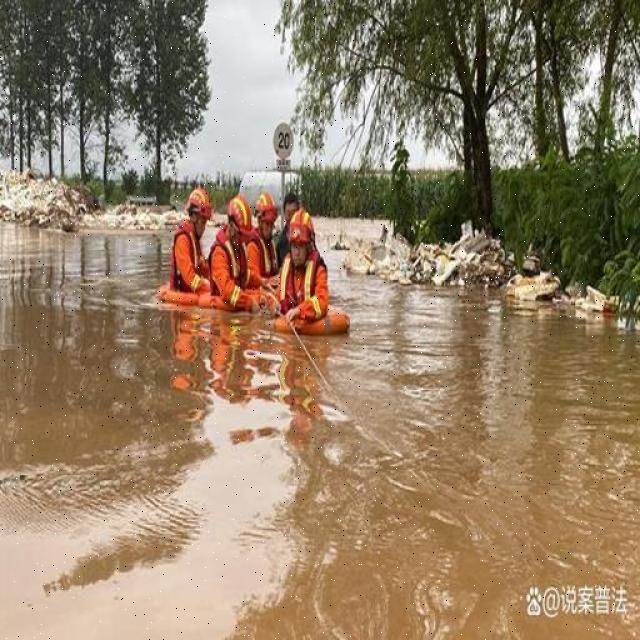rescuer: (275, 200, 353, 378), (136, 172, 212, 336), (216, 190, 264, 361), (246, 192, 284, 360)
